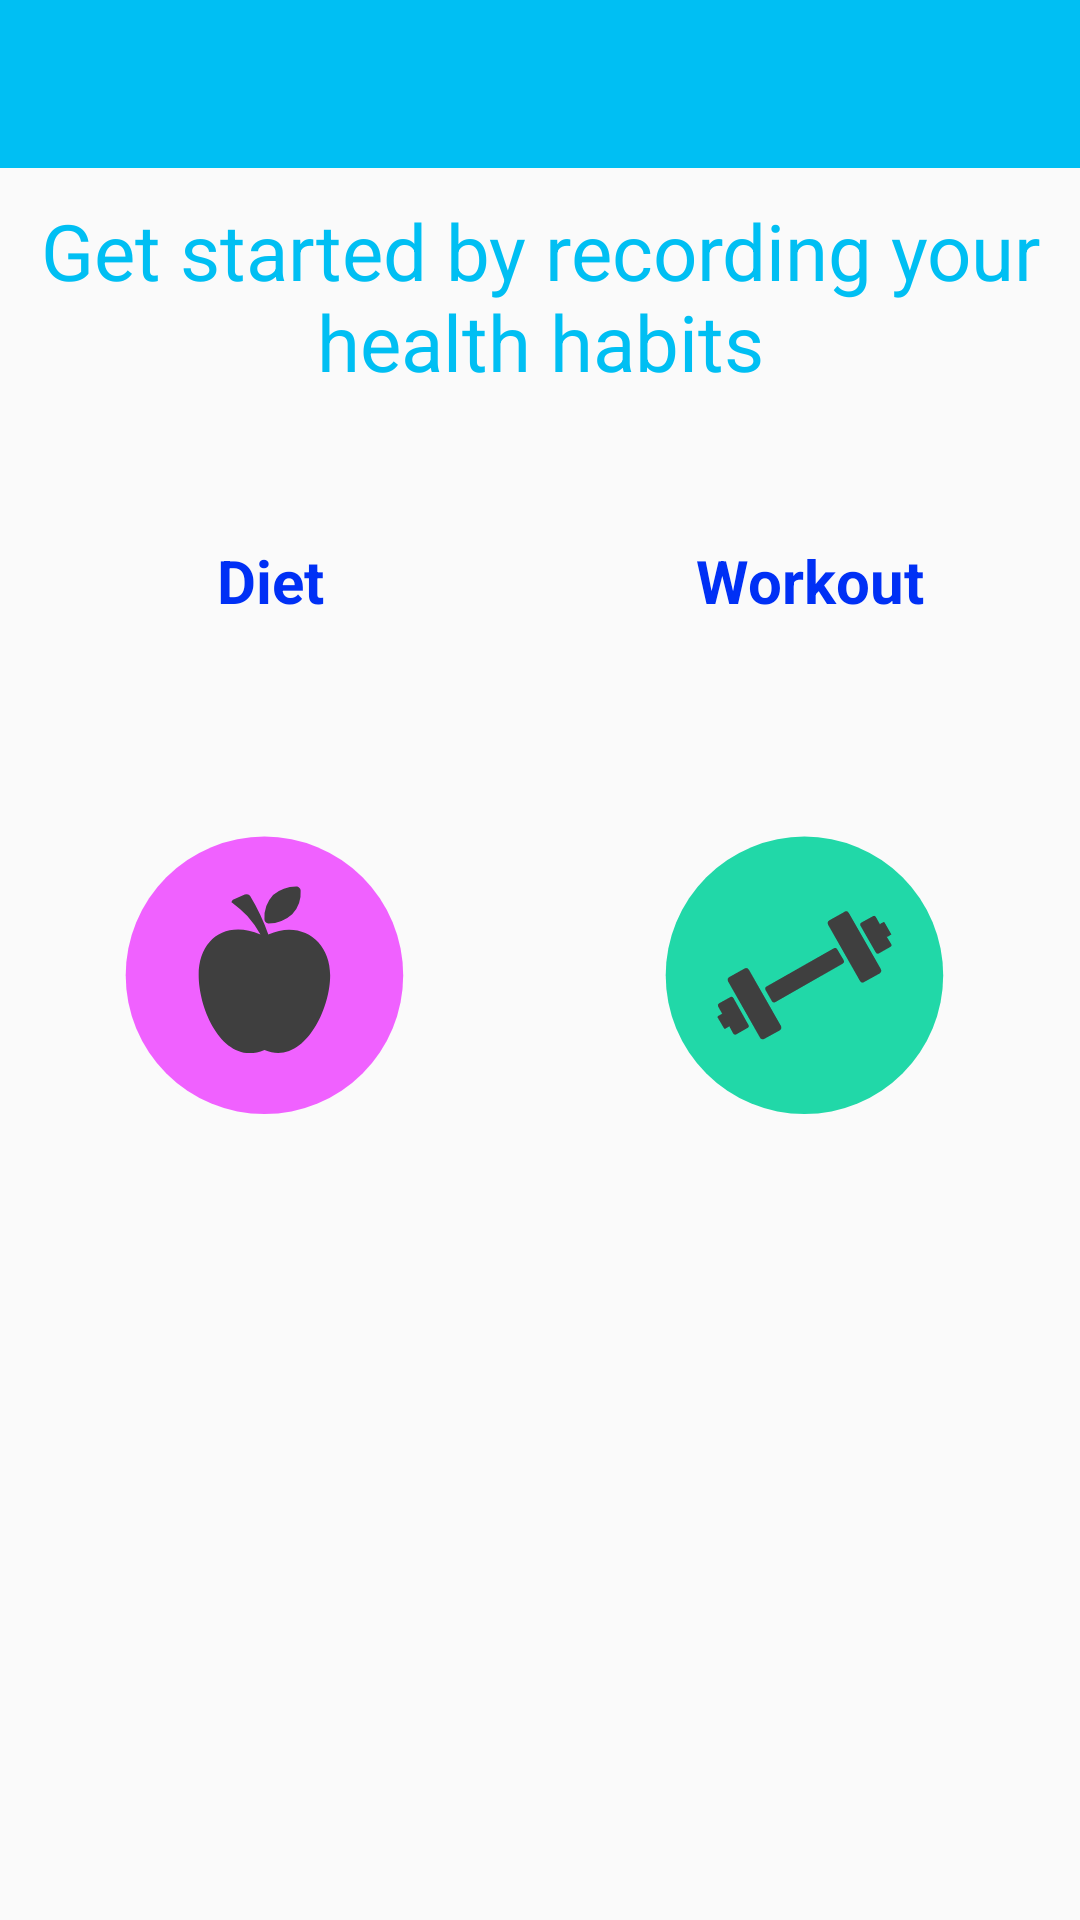

Point at icon controls on the screen. Image size 1080 x 1920, points as [x,y].
overview exercise: [804,975]
overview nutrition: [264,975]
